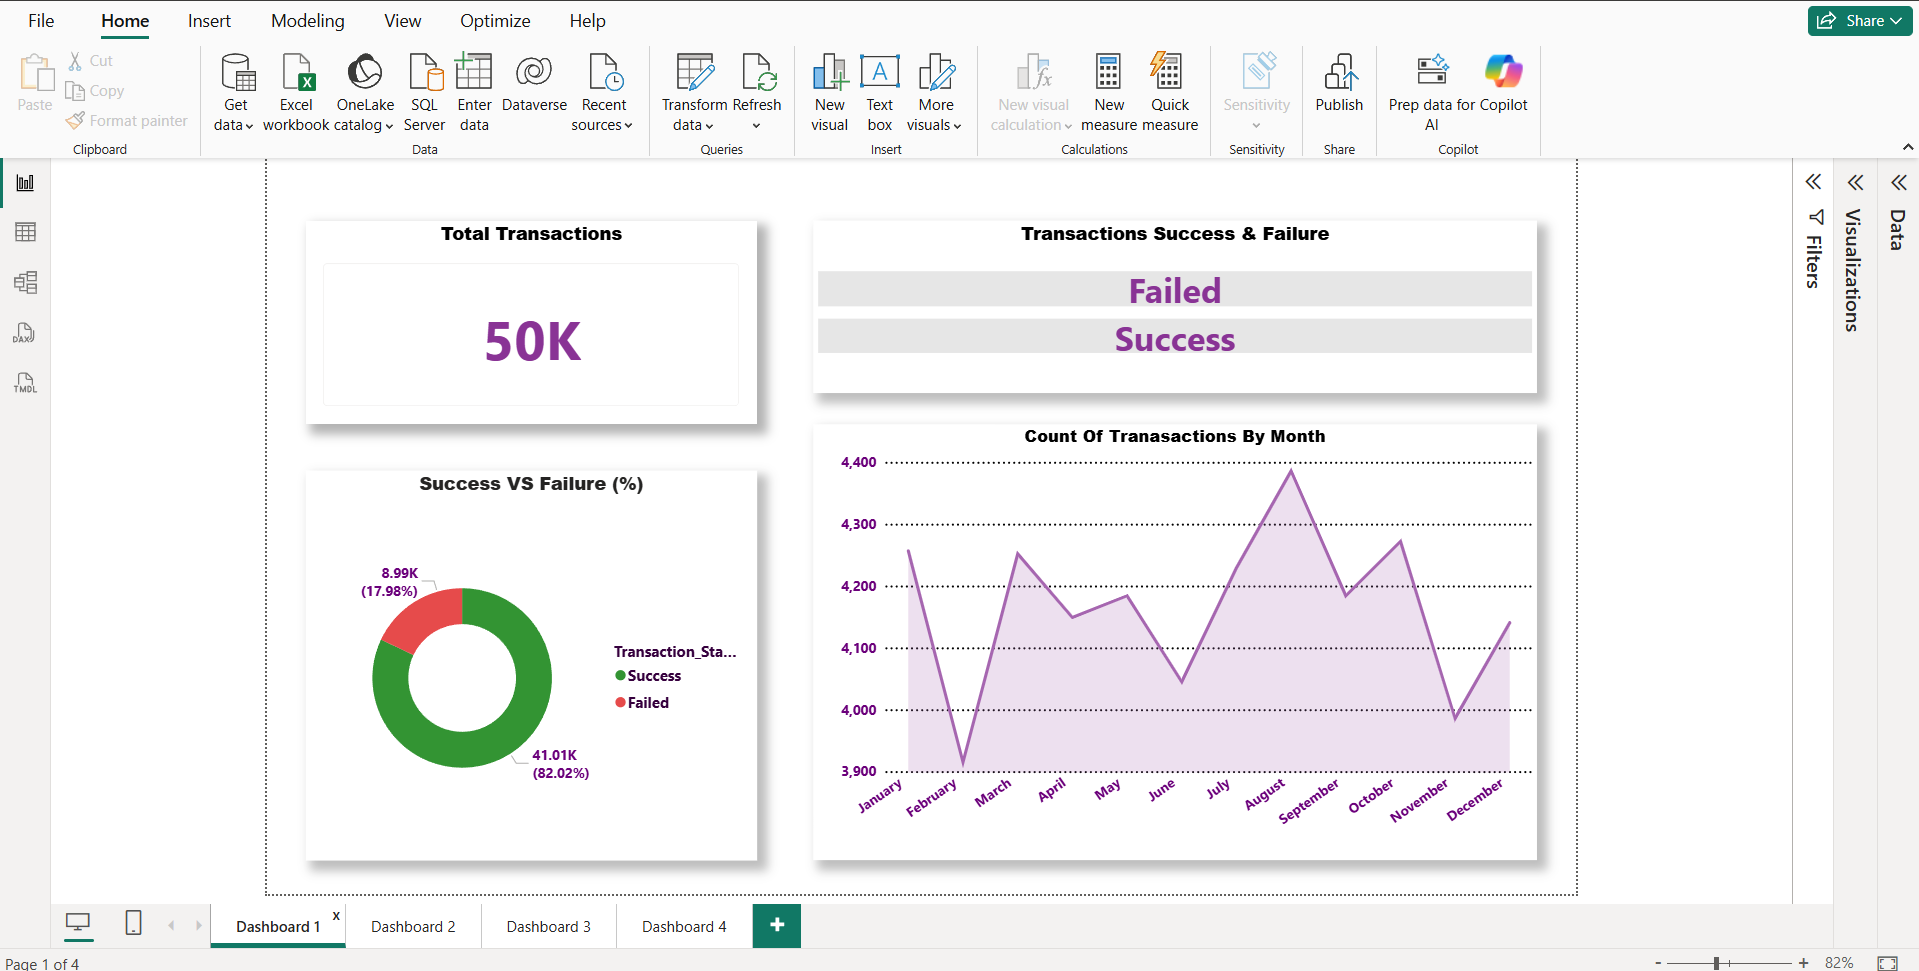

The page's visual inventory and layout, read from the dashboard file:
{"tool":"powerbi","page":{"name":"Page 1","canvas":[1280,720],"ordinal":0},"visuals":[{"type":"cardVisual","title":"Total Transactions","fields":{"Data":["CountNonNull(digital_payment_processed (2).transaction_id)"]},"box":[37.9,61.1,441.4,199.3],"z":0},{"type":"cardVisual","title":"Transactions Success & Failure","fields":{"Rows":["digital_payment_processed (2).transaction_status"]},"box":[534.4,61.1,708,168.8],"z":1000},{"type":"donutChart","title":"Success VS Failure (%)","fields":{"Category":["digital_payment_processed (2).transaction_status"],"Y":["CountNonNull(digital_payment_processed (2).user_id)"]},"box":[37.9,305.7,441.4,381.5],"z":2000},{"type":"lineChart","title":"Count Of Tranasactions By Month","fields":{"Category":["digital_payment_processed (2).transaction_date.Variation.Date Hierarchy.Month"],"Y":["CountNonNull(digital_payment_processed (2).transaction_id)"]},"box":[534.4,260.5,708,426.8],"z":3000}]}

Visuals, with their boxes on the page's 1280x720 design canvas (x1, y1, x2, y2). These are canvas units, not pixel positions in the 1919x971 screenshot, which may show the page scaled, cropped or inside an application window:
"Total Transactions" cardVisual: 38 61 479 260
"Transactions Success & Failure" cardVisual: 534 61 1242 230
"Success VS Failure (%)" donutChart: 38 306 479 687
"Count Of Tranasactions By Month" lineChart: 534 260 1242 687
